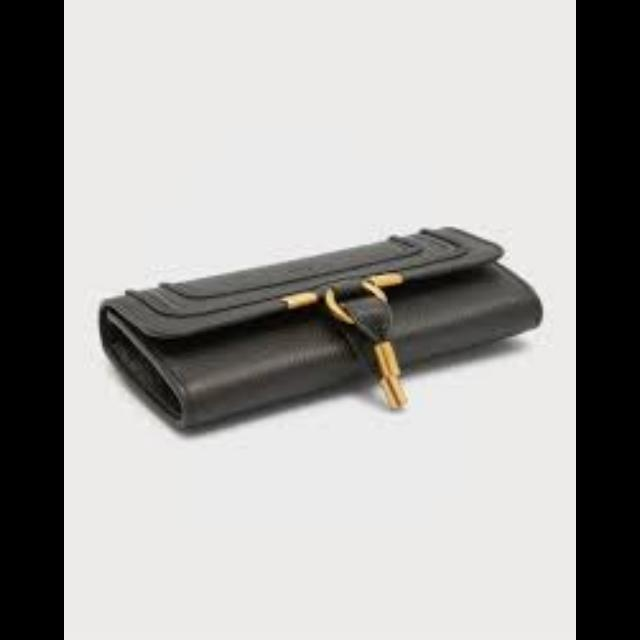wallet: (100, 230, 576, 420)
